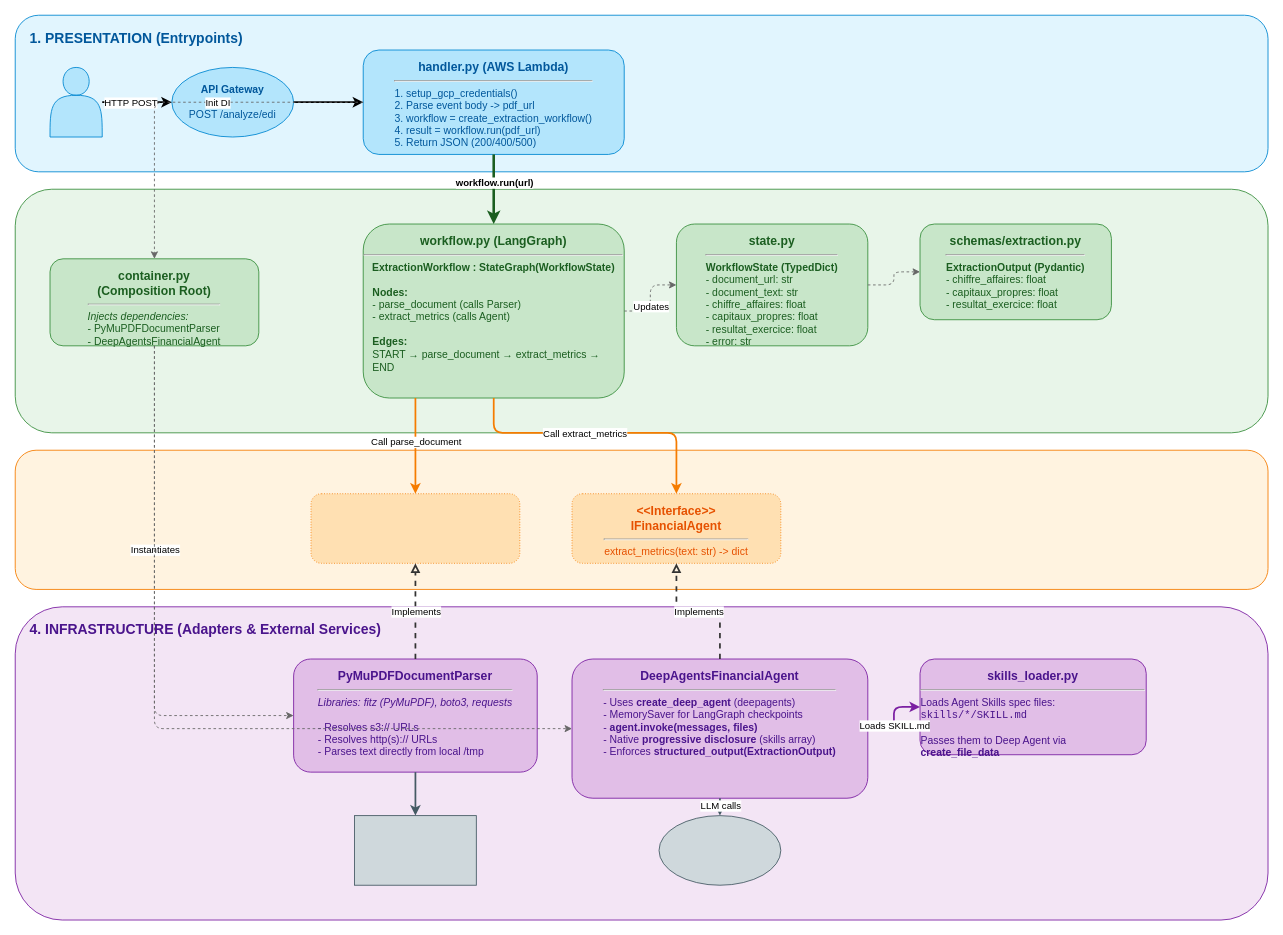
Image size: 1283x935. Some labels were removed from this diagram. The box of each missing label's shape, as (x1, y1, x2, y2) in pixels:
2. APPLICATION (Use Cases & Orchestration): (14, 188, 1268, 433)
3. DOMAIN (Ports & Core Logic): (14, 449, 1268, 589)
<<Interface>> IDocumentParser extract_text(url: str) -> str: (310, 493, 520, 563)
Client: (49, 67, 102, 137)
S3 Bucket / Web (Document Source): (354, 815, 476, 885)
VertexAI / Gemini (gemini-2.5-flash): (658, 815, 781, 885)
